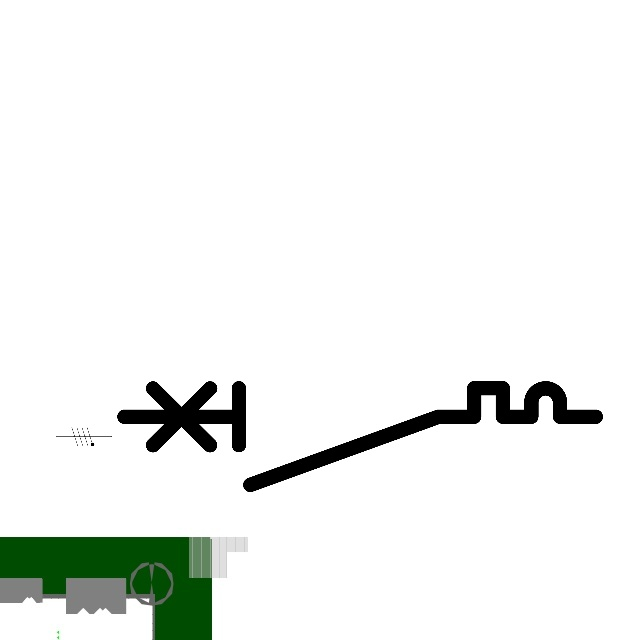interruptor_termomagnetico: (112, 376, 608, 497)
